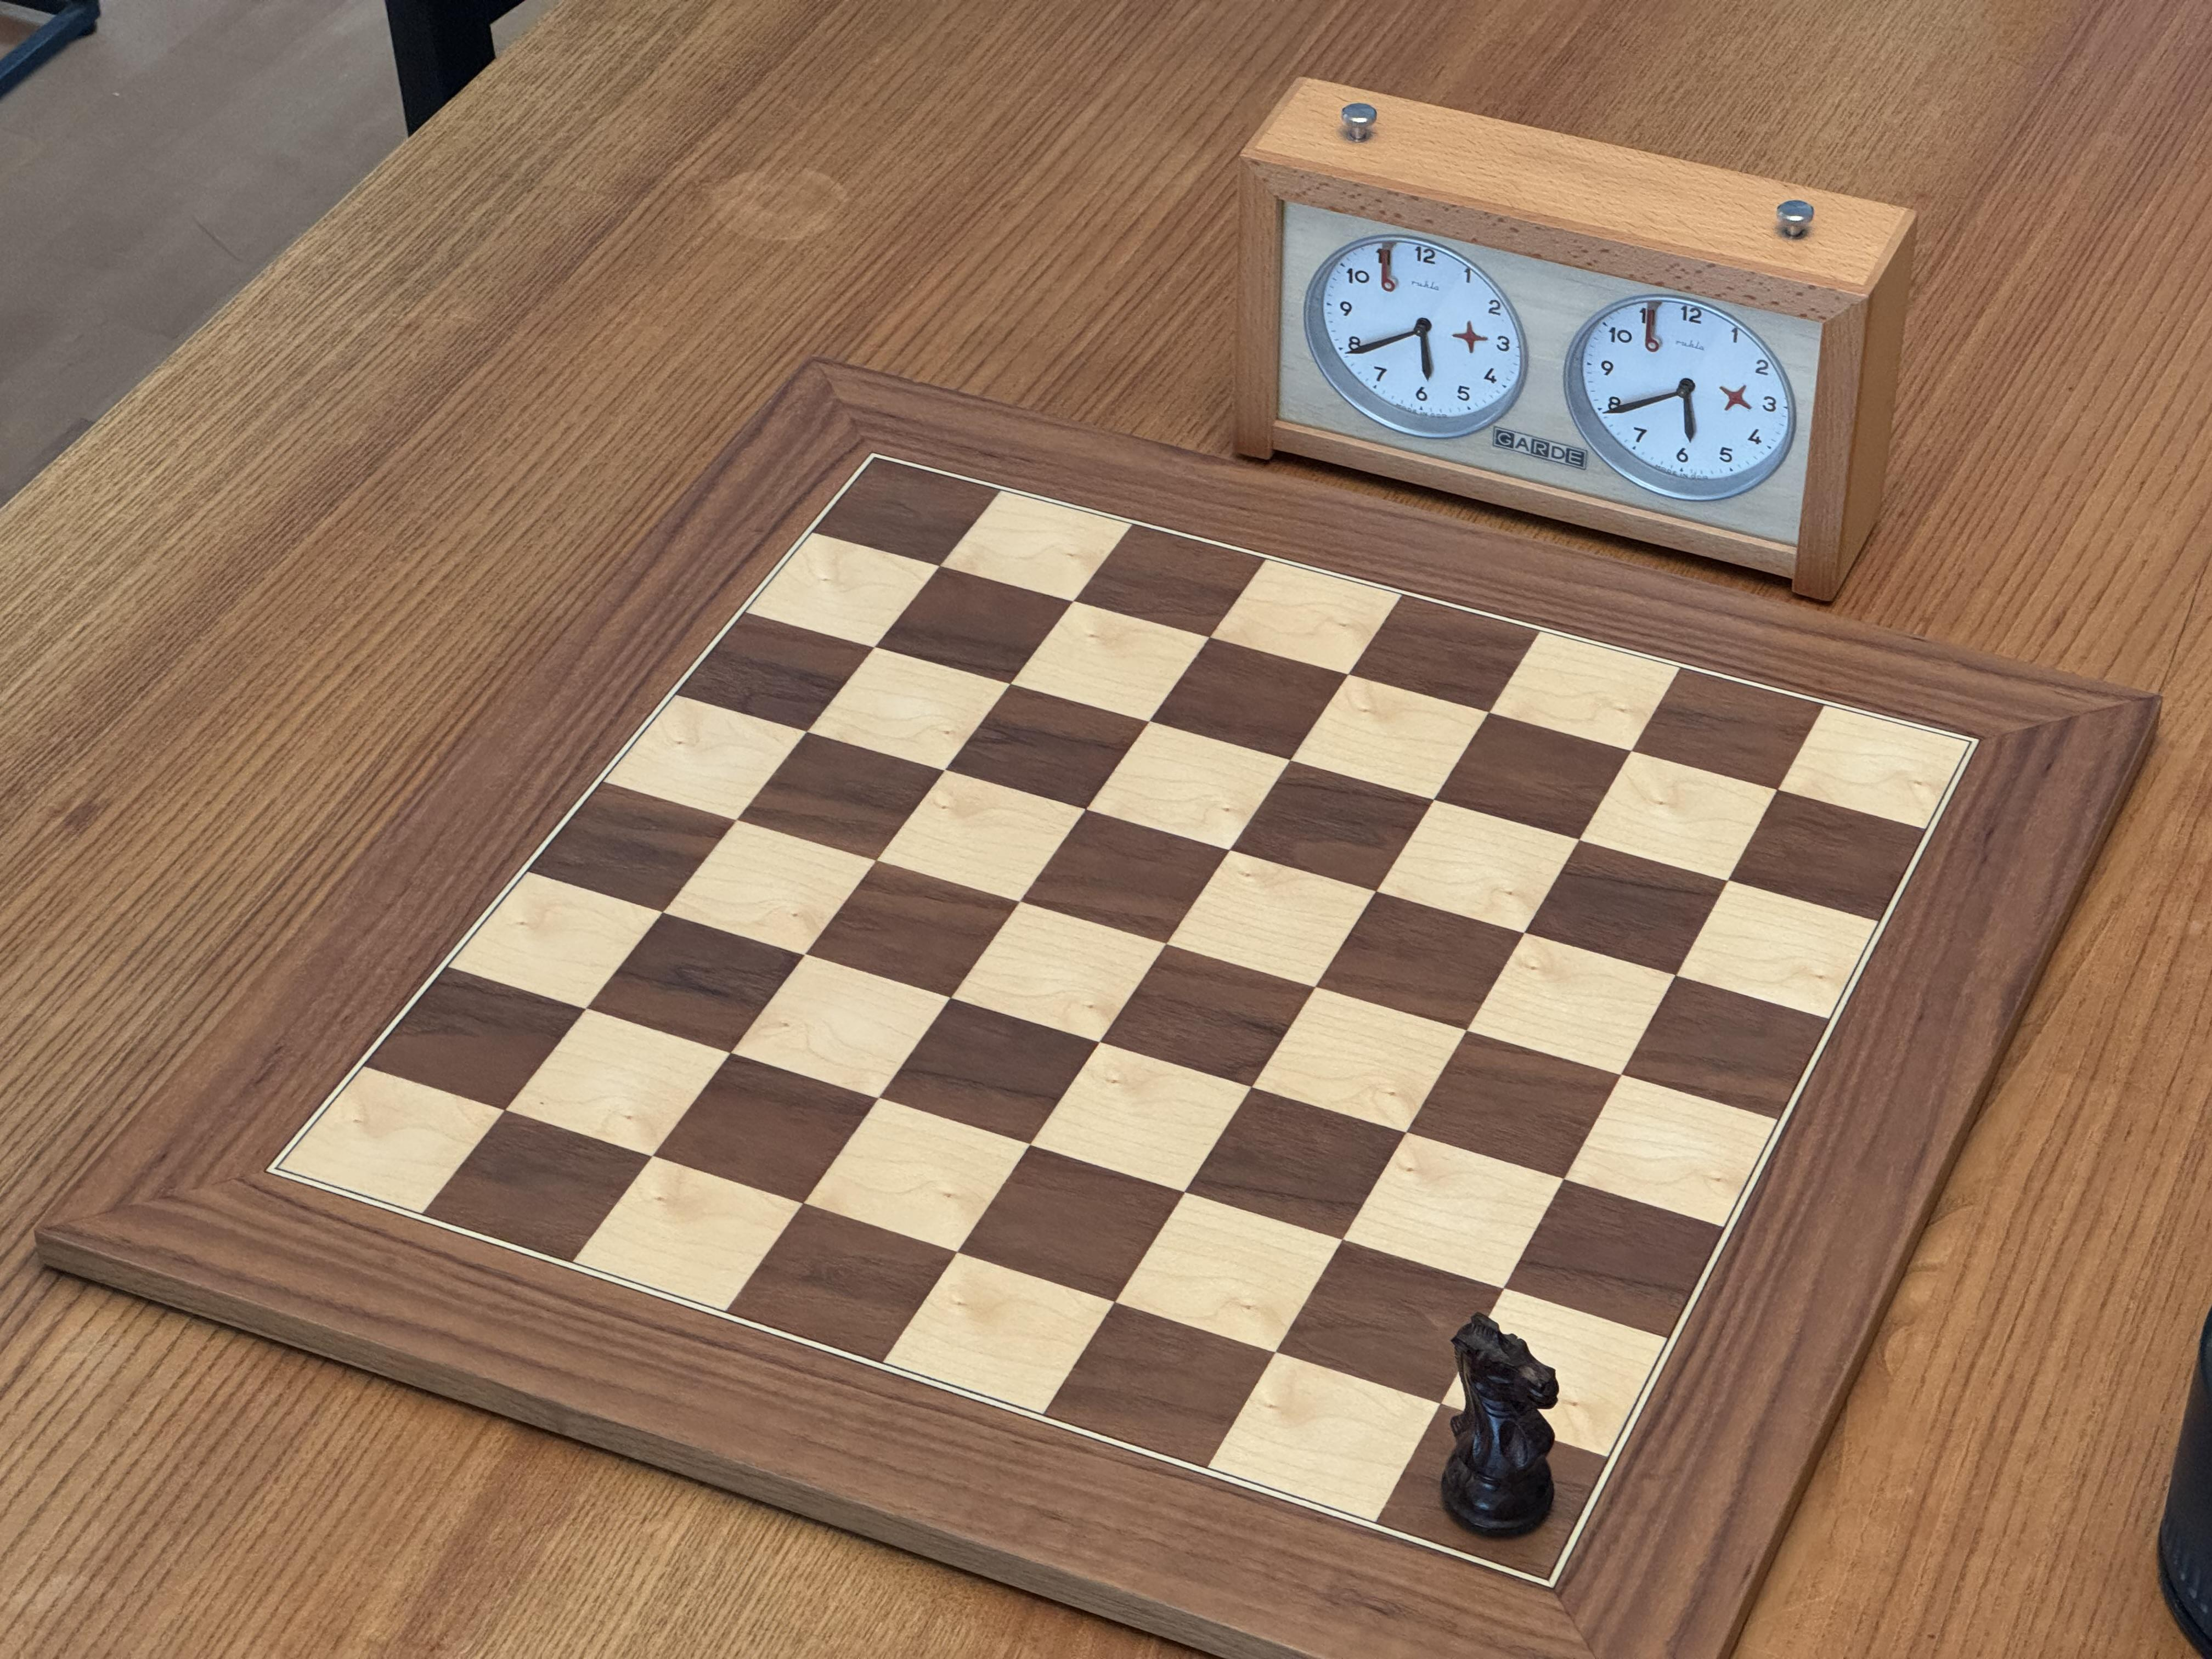Black Knight: (1434, 1304, 1564, 1545)
